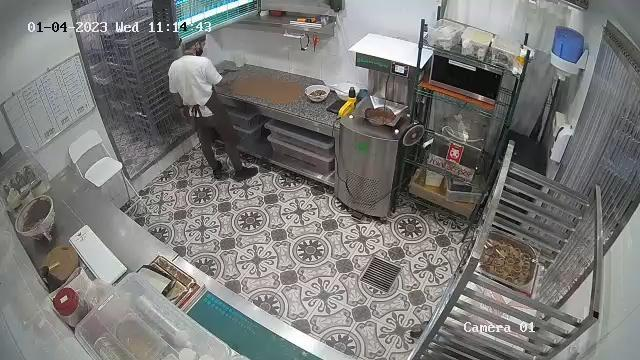gloves: (179, 31, 208, 49)
mask: (194, 43, 208, 56)
no_apron: (174, 105, 188, 122)
